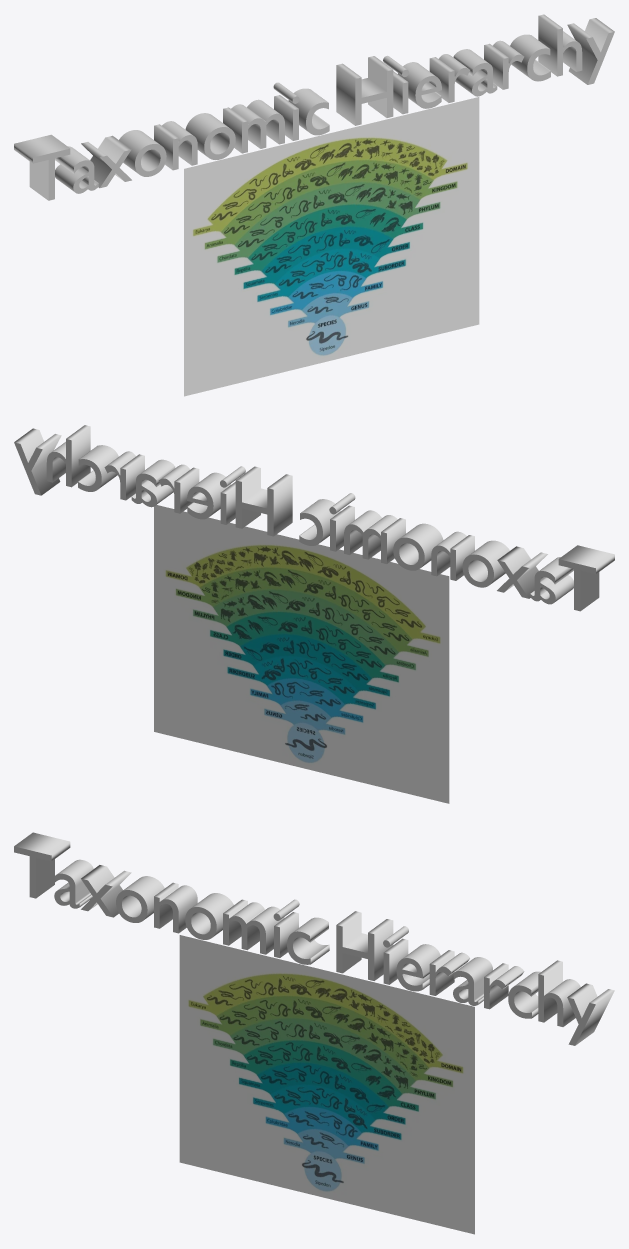
File: classification.glb
3 renders of one model, top to bottom at view 1: azimuth 30°, elevation 25°; view 2: azimuth 150°, elevation 25°; view 3: azimuth 330°, elevation 25°, orthographic.
Parts seen in each view (by area): view 1: classification_info, Text; view 2: classification_info, Text; view 3: classification_info, Text.
Boxes of the visible parts, x1=… form: classification_info: x1=184, y1=97, x2=479, y2=396; Text: x1=14, y1=14, x2=614, y2=200; classification_info: x1=154, y1=505, x2=449, y2=803; Text: x1=14, y1=425, x2=614, y2=611; classification_info: x1=179, y1=935, x2=474, y2=1234; Text: x1=14, y1=832, x2=614, y2=1045.
Bounding box in the file's own units: 6.11 × 2.84 × 0.3453.
Materials: 2 (1 with a texture image).
